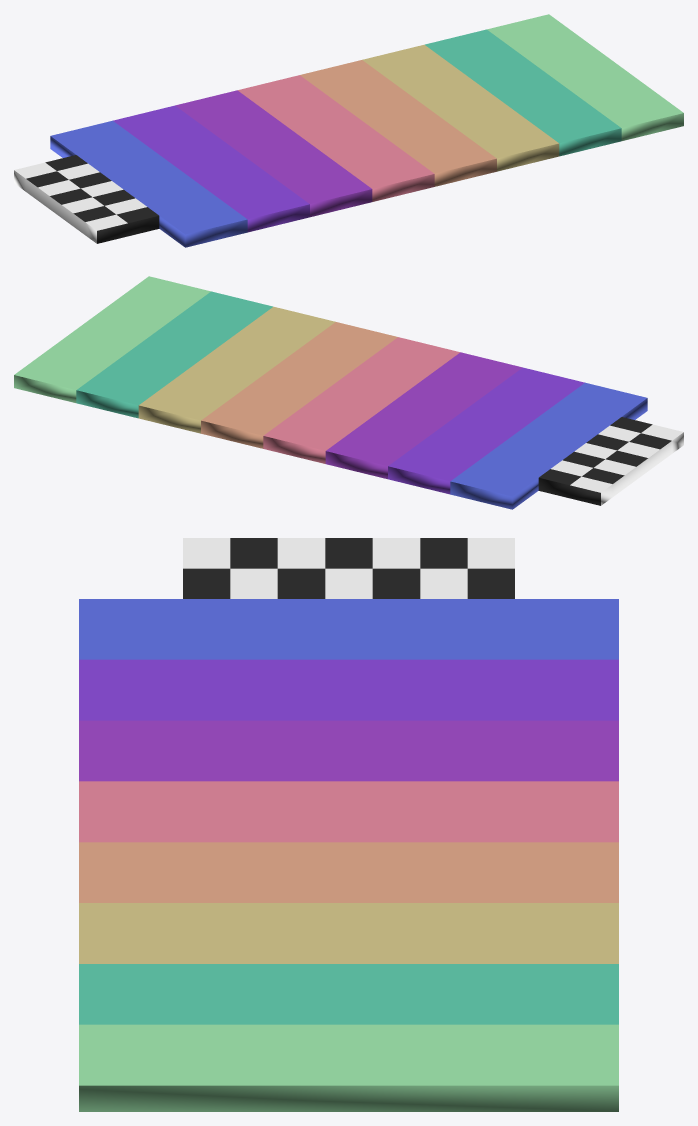
Rendered from Finish.fbx.
3 renders of one model, top to bottom at view 1: azimuth 30°, elevation 25°; view 2: azimuth 150°, elevation 25°; view 3: azimuth 270°, elevation 25°, orthographic. The views are drawn at different scales.
Visible parts, largest first — view 1: Finish; view 2: Finish; view 3: Finish.
Boxes of the visible parts, box(x1,y1,x2,y2) form: Finish: box(14, 14, 683, 247); Finish: box(14, 276, 683, 509); Finish: box(79, 538, 618, 1111).
Bounding box in the file's own units: 3600 × 80.3 × 1500.
